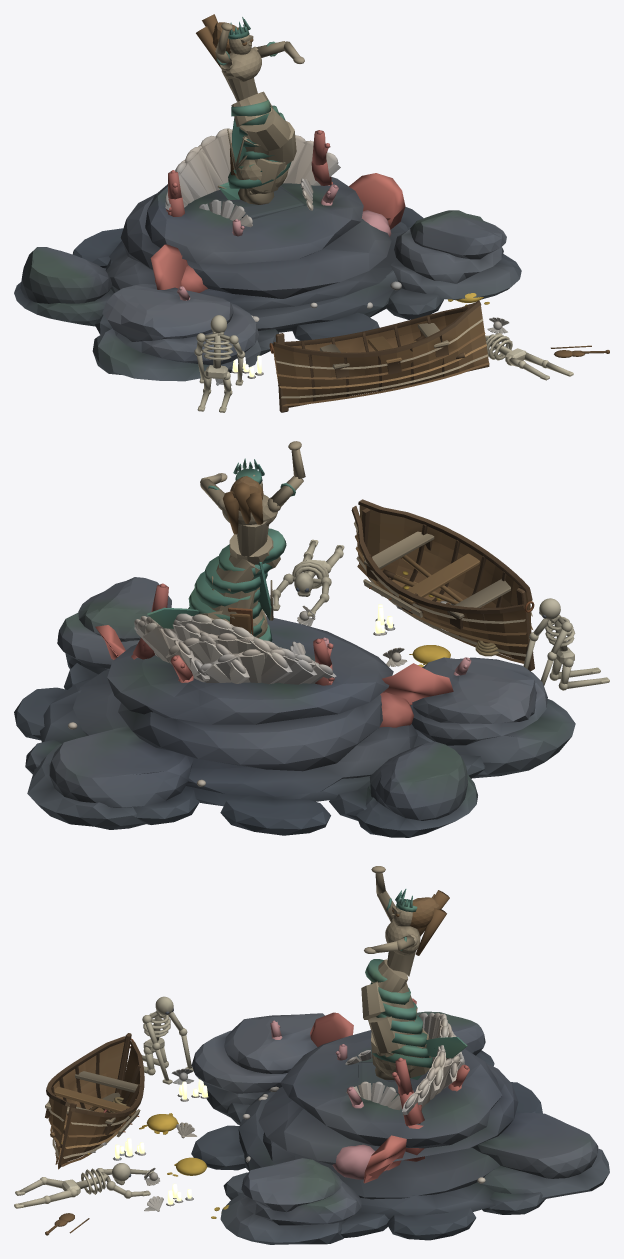
The model's file is mermaid_shrine.23747650.glb.
The picture shows the model from 3 angles, top to bottom: view 1: azimuth 30°, elevation 25°; view 2: azimuth 150°, elevation 25°; view 3: azimuth 270°, elevation 25°; orthographic projection. The views are drawn at different scales.
Parts seen in each view (by area): view 1: mermaid_shrine; view 2: mermaid_shrine; view 3: mermaid_shrine.
Boxes of the visible parts, x1,y1,x2,y2 form: mermaid_shrine: (14,14,609,412); mermaid_shrine: (14,441,609,837); mermaid_shrine: (14,866,609,1244).
Bounding box in the file's own units: 5.81 × 3.67 × 7.19.
